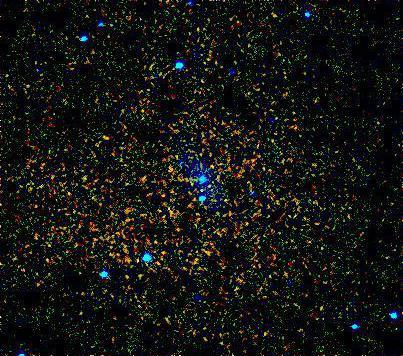star: (197, 154, 227, 184)
